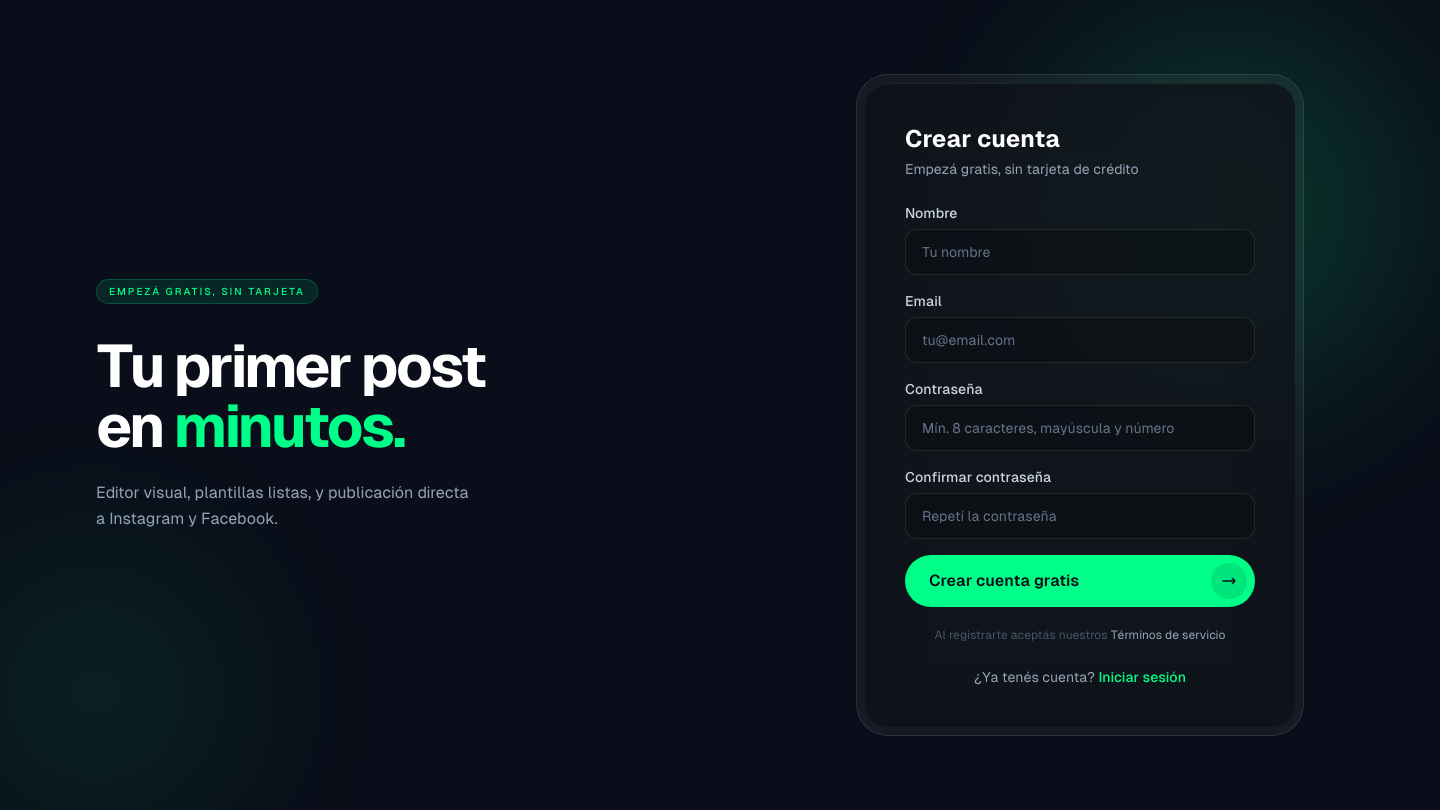
Scenario: Register › muestra error si las contraseñas no coinciden
Type "Franco" into the field labelled "Nombre" at coordinates (1080, 252), box [905,229,1255,275]
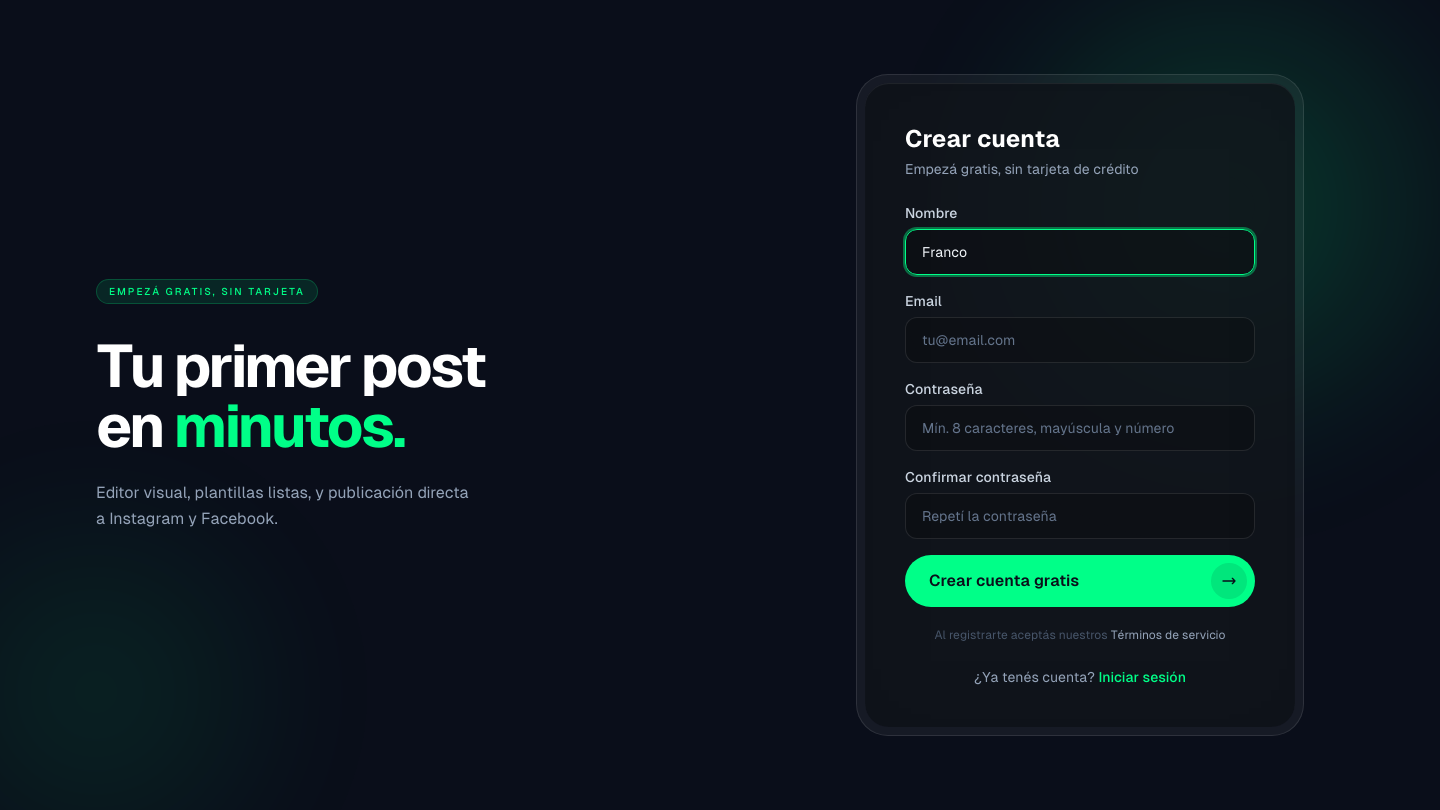
Type "franco@test.com" into the field labelled "Email" at coordinates (1080, 340), box [905,317,1255,363]
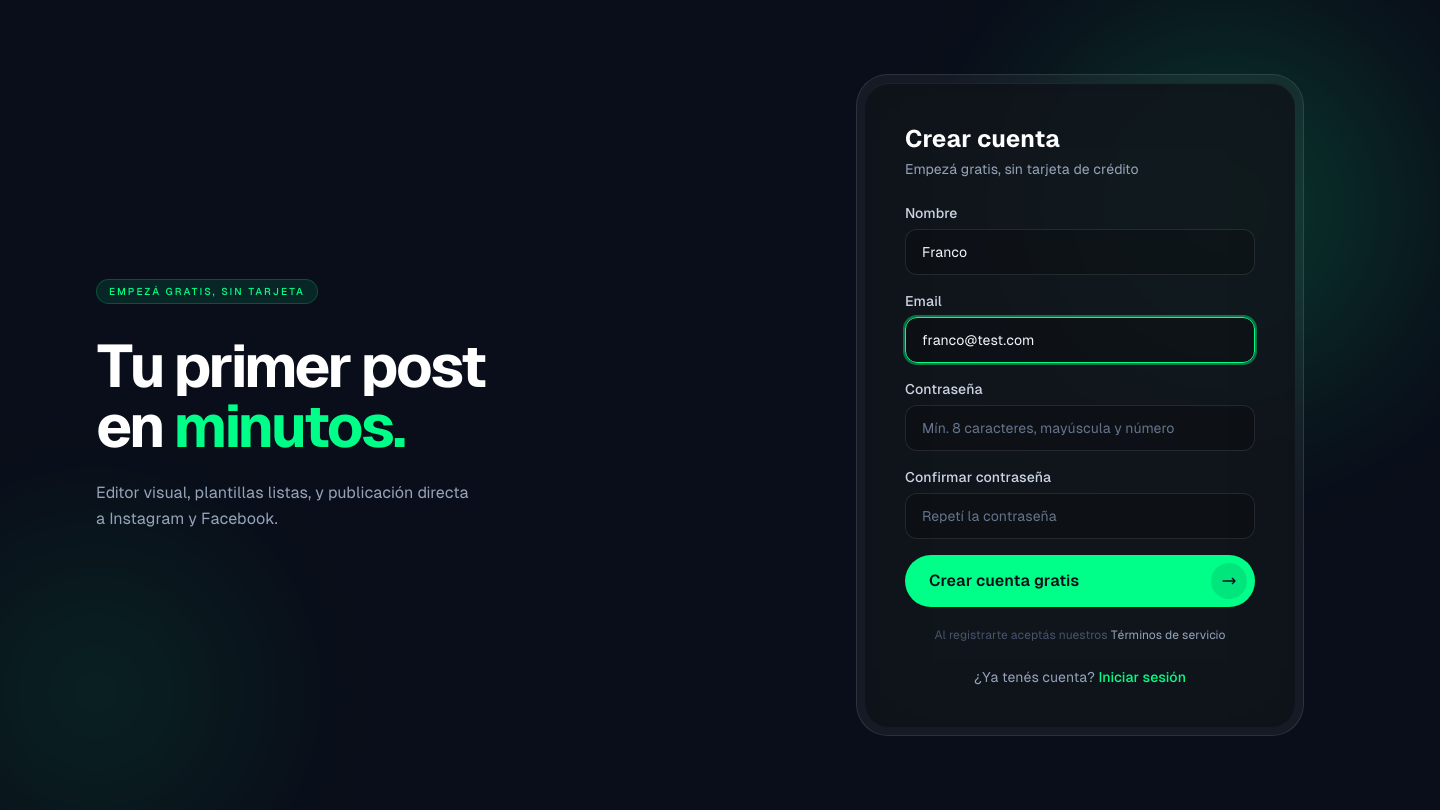
Type "Password1" into the password field labelled "Contraseña" at coordinates (1080, 428), box [905,405,1255,451]
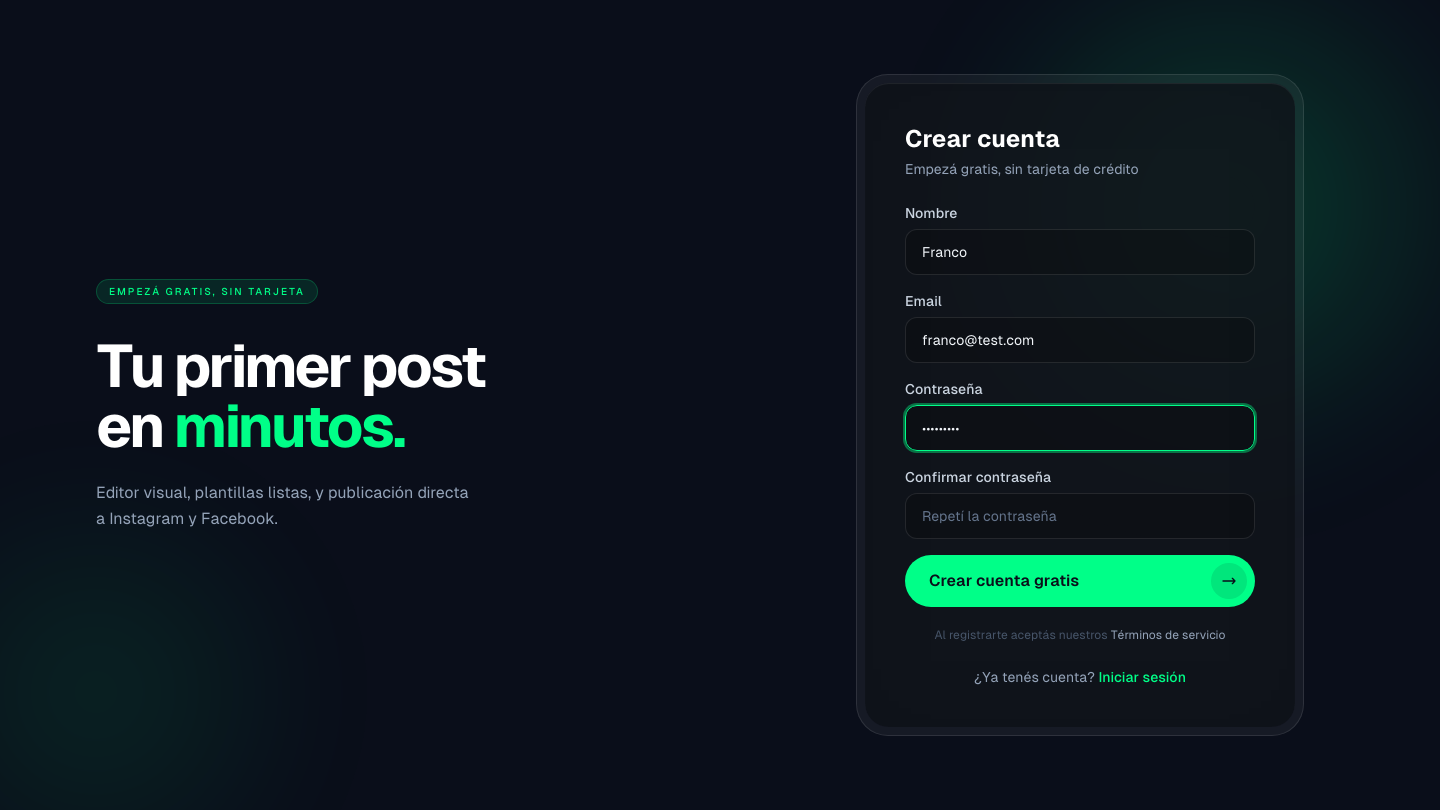
Type "Password2" into the password field labelled "Confirmar contraseña" at coordinates (1080, 516), box [905,493,1255,539]
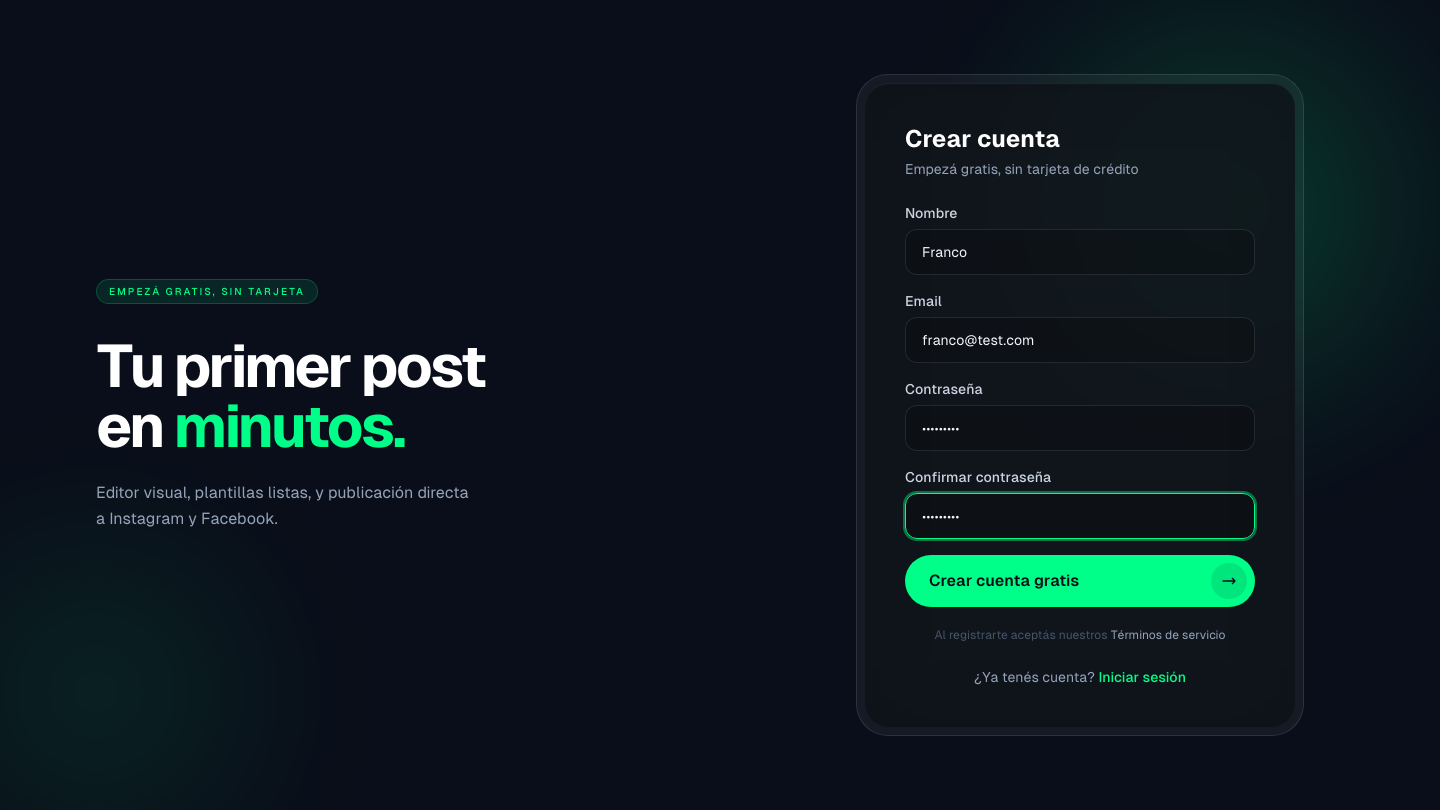
Click the button "Crear cuenta gratis" at coordinates (1080, 581), box [905,555,1255,607]
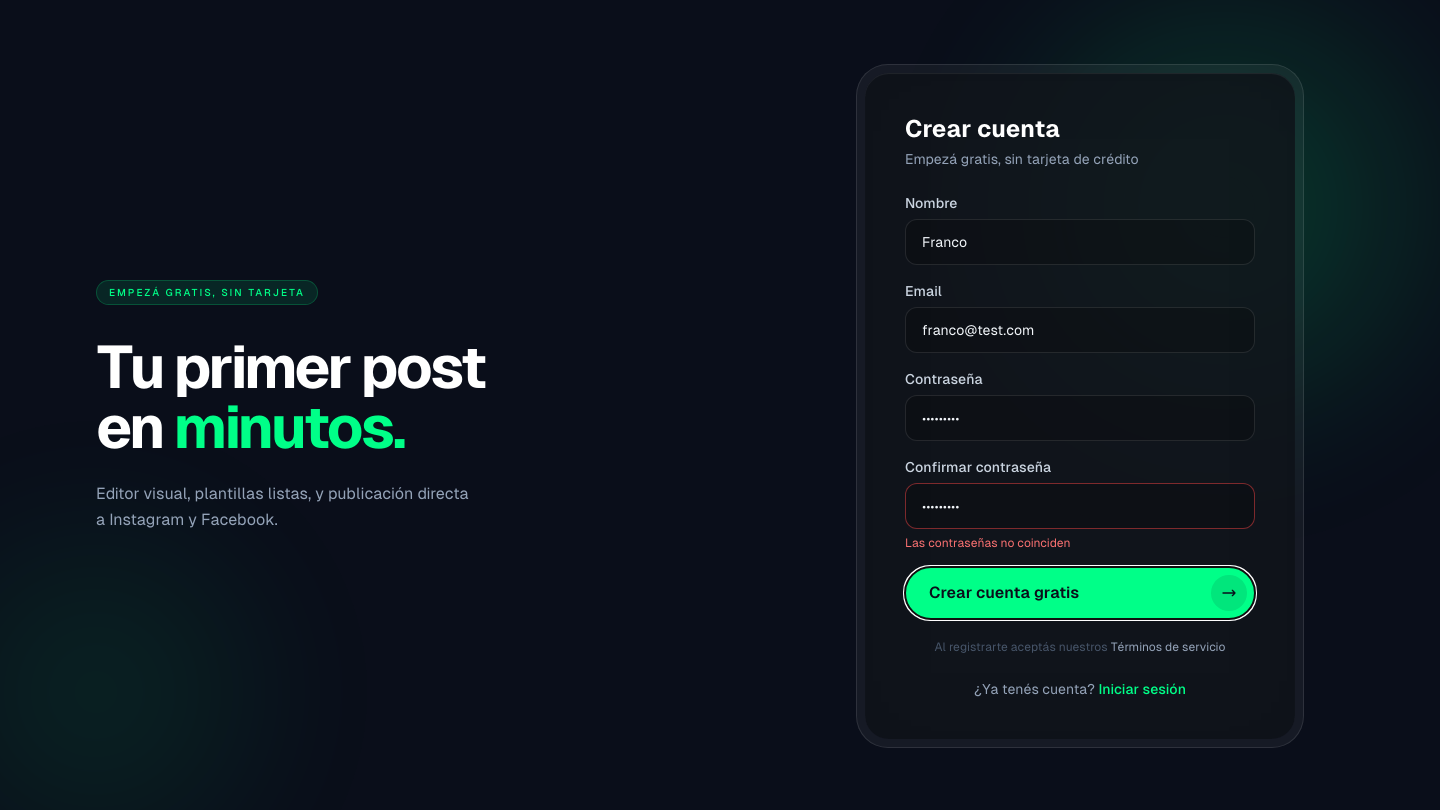
Now the text "Las contraseñas no coinciden" is shown, box [905,536,1071,550]
